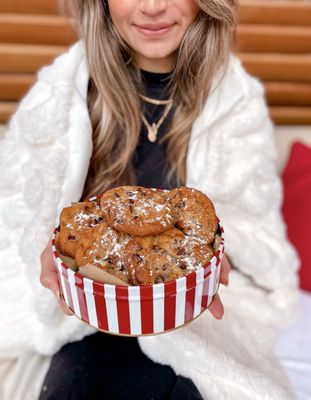sushi: (49, 185, 227, 337)
